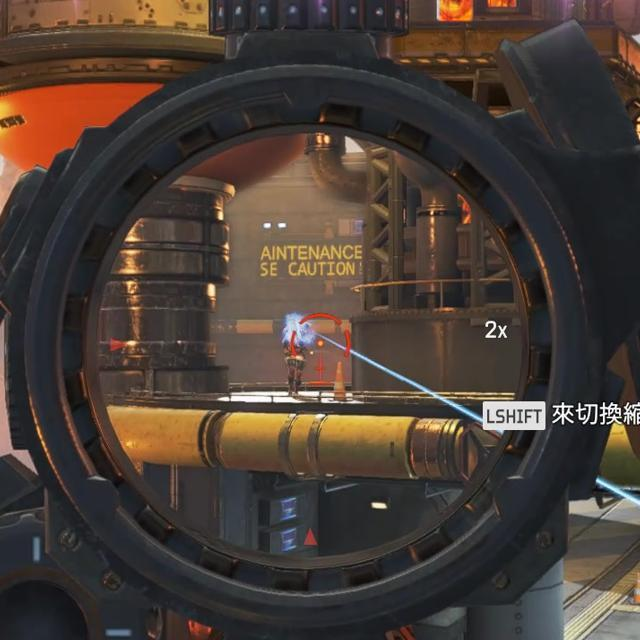avatar: (280, 312, 309, 399)
object: (281, 309, 314, 349)
